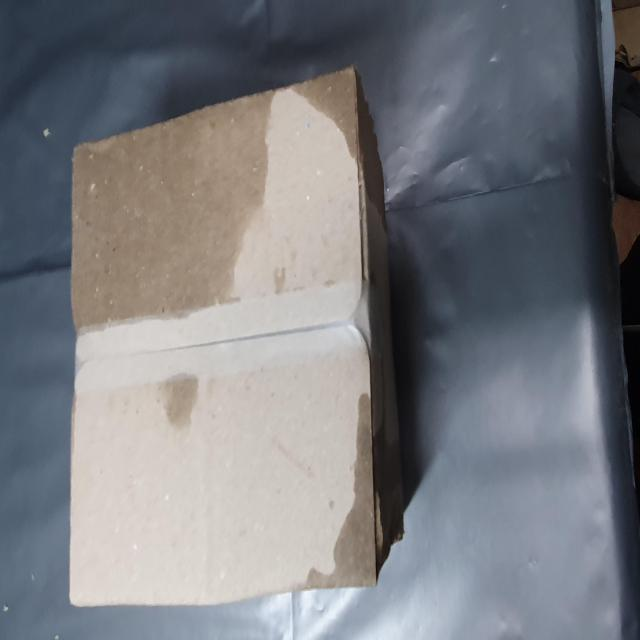wet: (117, 128, 304, 483), (26, 526, 144, 640), (255, 526, 322, 640)
